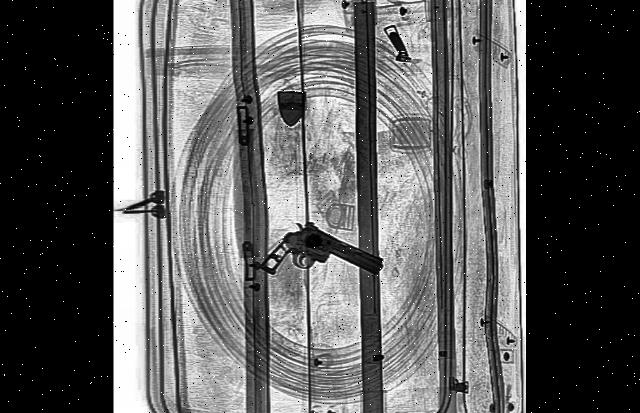Gun: (262, 198, 384, 328)
